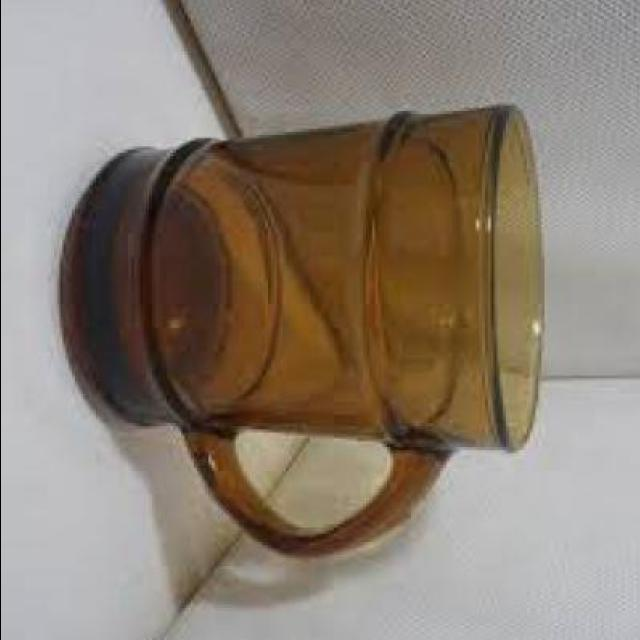kaca: (58, 103, 548, 558)
